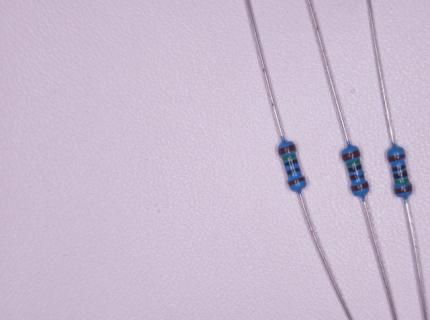Black band: (284, 159, 298, 167), (348, 164, 362, 172), (394, 171, 408, 179), (286, 168, 301, 175), (350, 174, 365, 180), (393, 165, 406, 171)
Brown band: (278, 144, 296, 155), (342, 150, 360, 161), (352, 182, 369, 192), (395, 185, 412, 194), (388, 154, 405, 162), (289, 177, 305, 185)
Green band: (346, 159, 360, 167), (282, 154, 296, 161), (395, 179, 409, 184)
